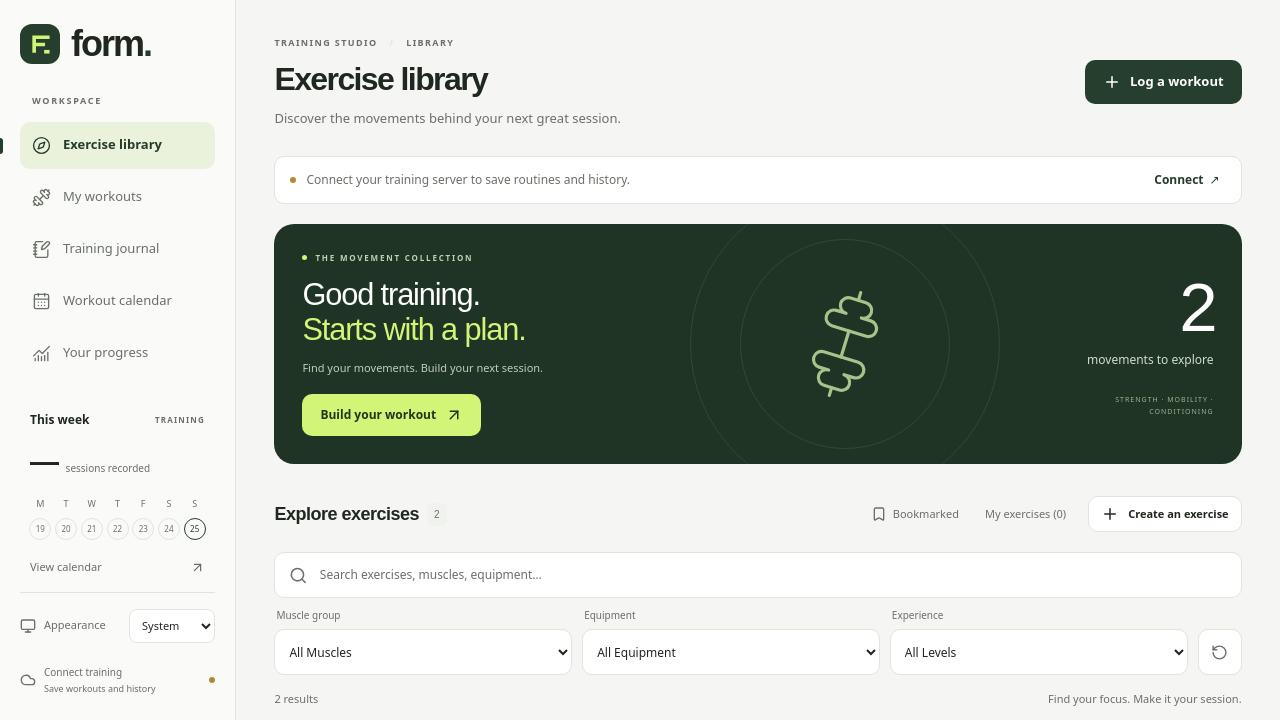
it: Exercise discovery and draft behavior › shows honest empty progress without fabricated sessions
Click the button "Your progress": [118, 353] box [20, 330, 215, 376]
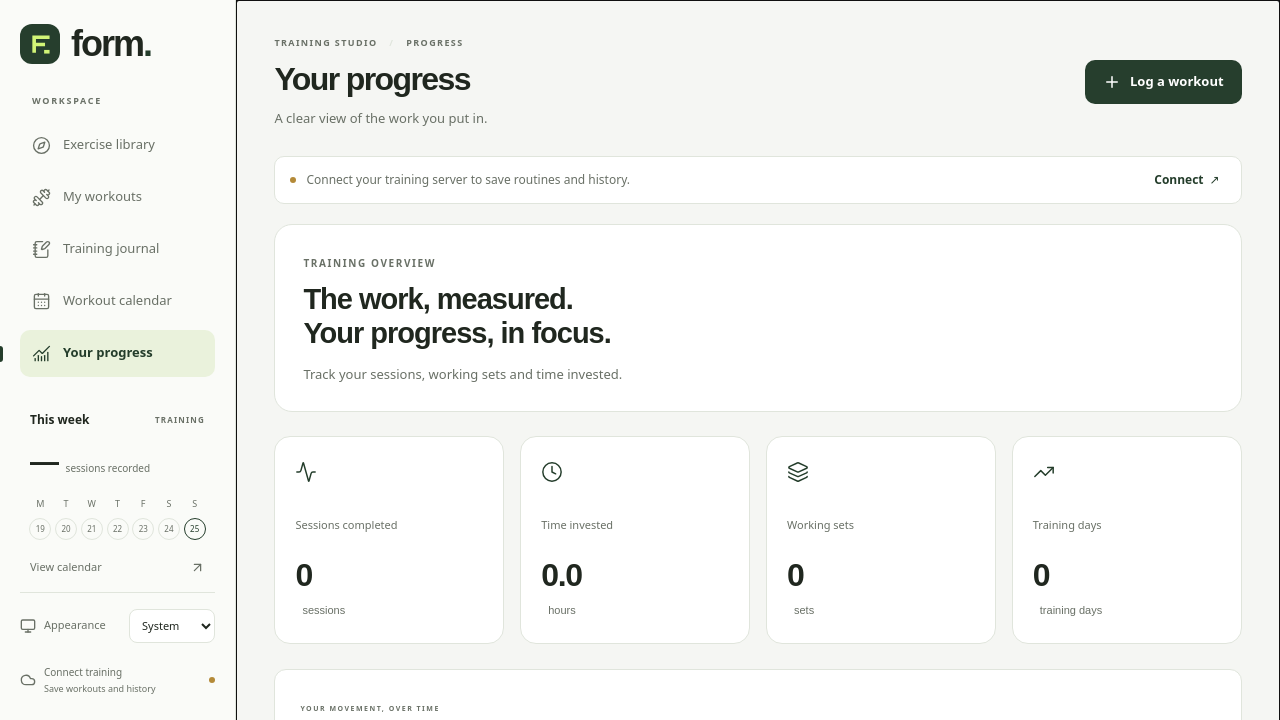
Check: the text "Sessions completed" is shown, box [295, 517, 398, 532]
